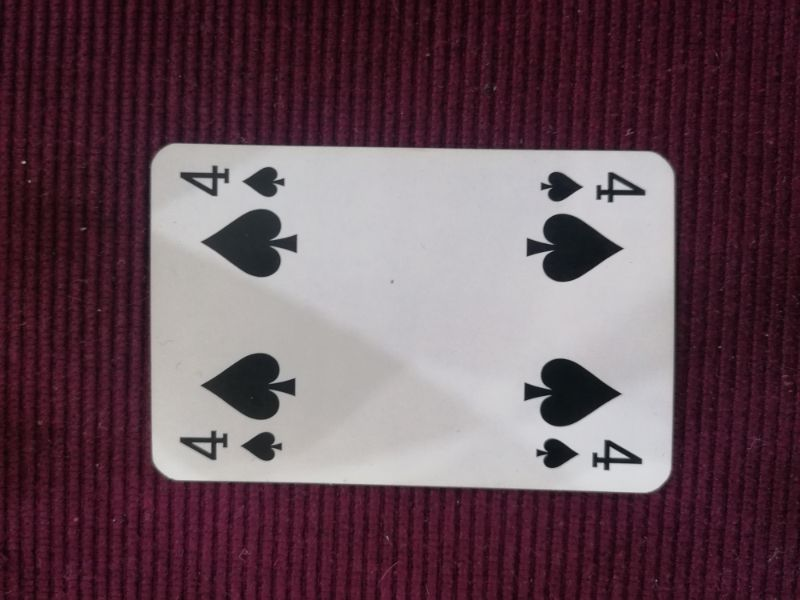4s: (523, 429, 649, 477), (525, 163, 651, 207), (170, 424, 294, 468), (177, 159, 291, 202)
